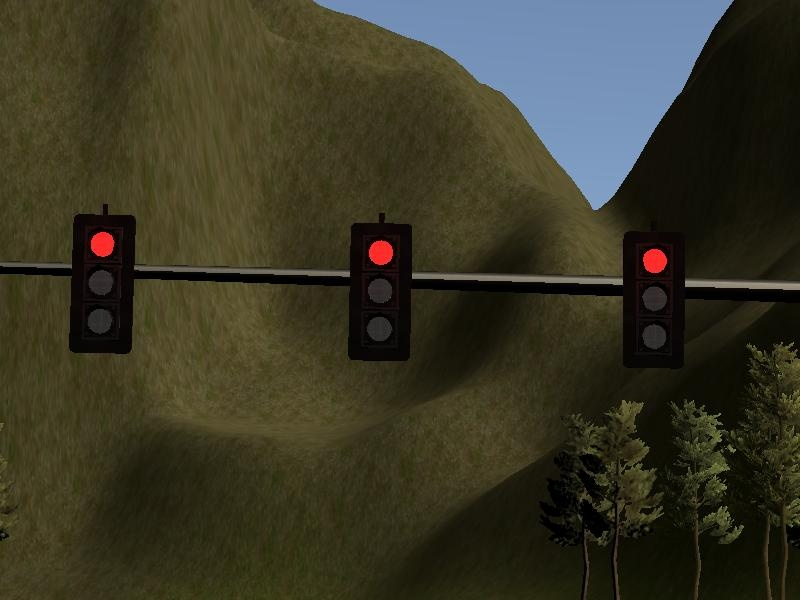RED: (620, 233, 687, 370), (70, 212, 133, 350), (347, 222, 409, 358)
